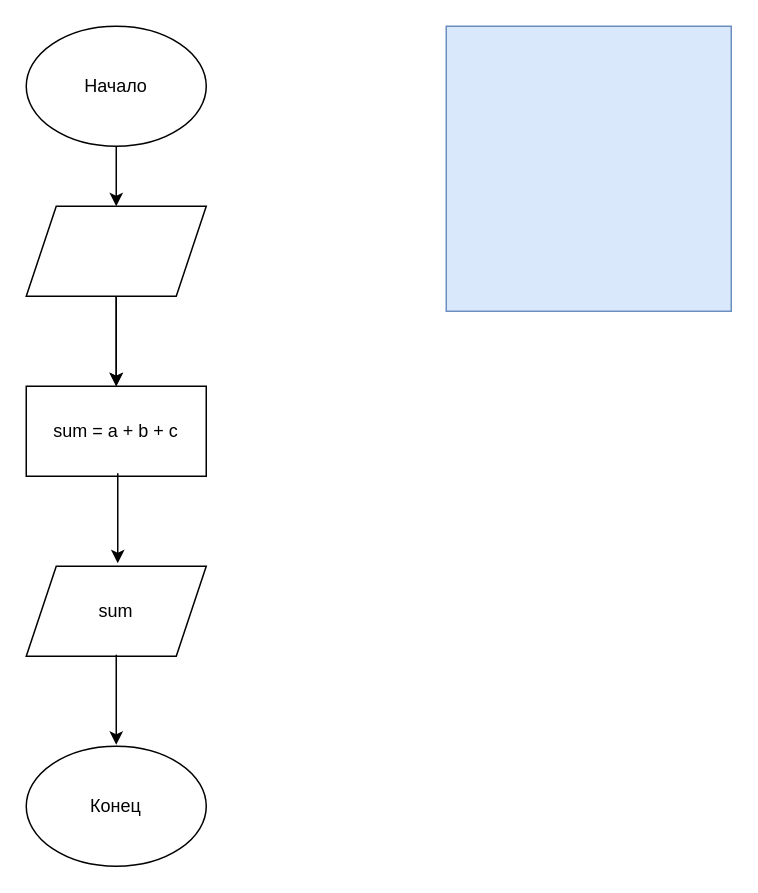
This 758x893 diagram has some shape labels left out. Here are the shapes that lost their labels. From the top down, the centre of each, then its label:
At point (588, 168): "START Number input: a, b,c sum = a + b + c output sum END".
At point (115, 250): "Ввод a, b, c".
